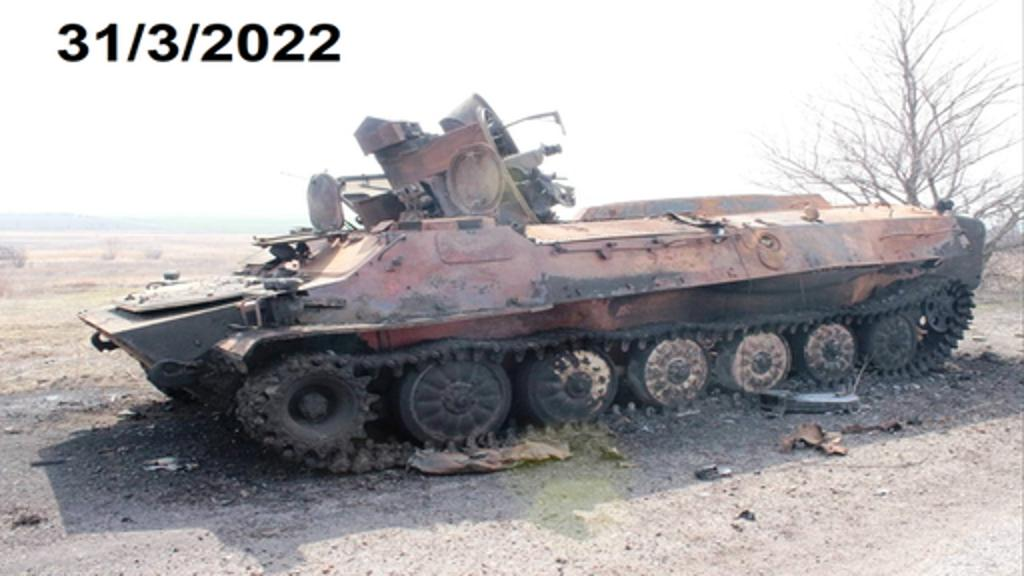APC-IFV: (68, 92, 990, 470)
